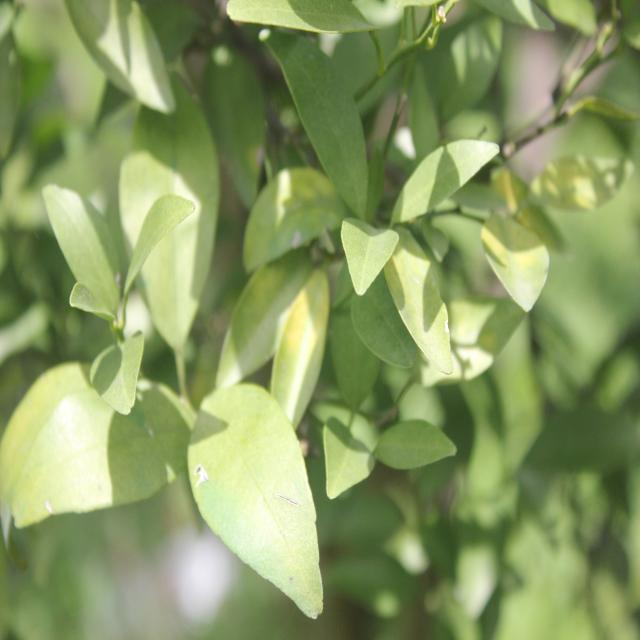greening: (192, 386, 302, 594), (7, 371, 118, 523), (280, 39, 376, 205)
